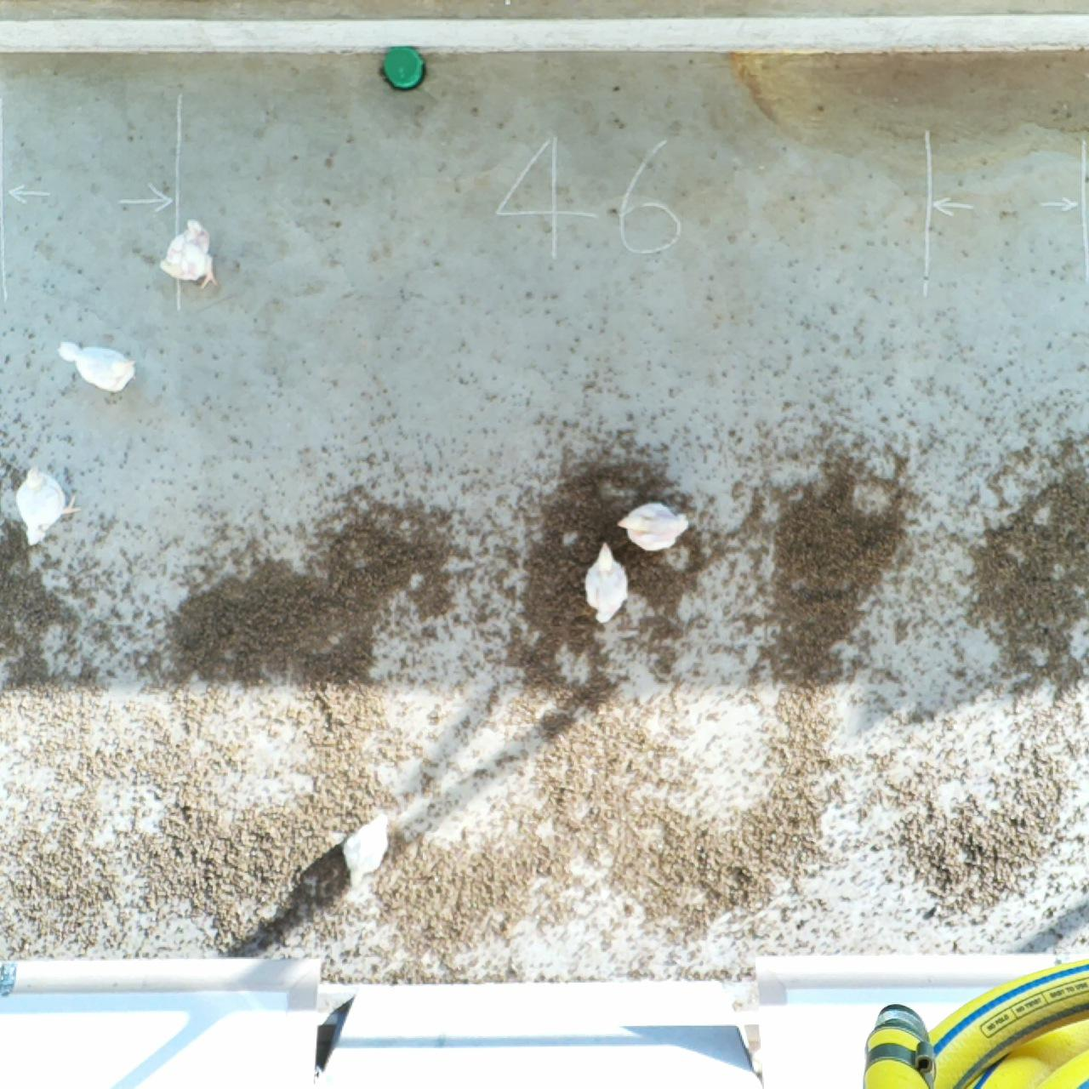chicken: (12, 461, 85, 548), (55, 336, 143, 395), (158, 215, 223, 292), (579, 538, 633, 627), (338, 809, 393, 893), (616, 499, 691, 555)
